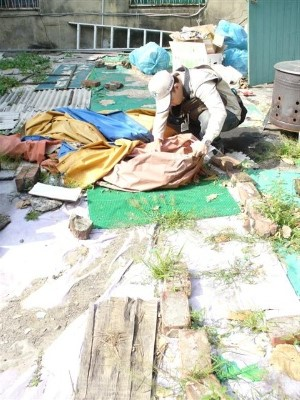bucket: (264, 58, 300, 137)
plastic_bag: (23, 106, 137, 189), (119, 133, 202, 191), (127, 41, 169, 74), (217, 20, 248, 47), (221, 47, 248, 72)
